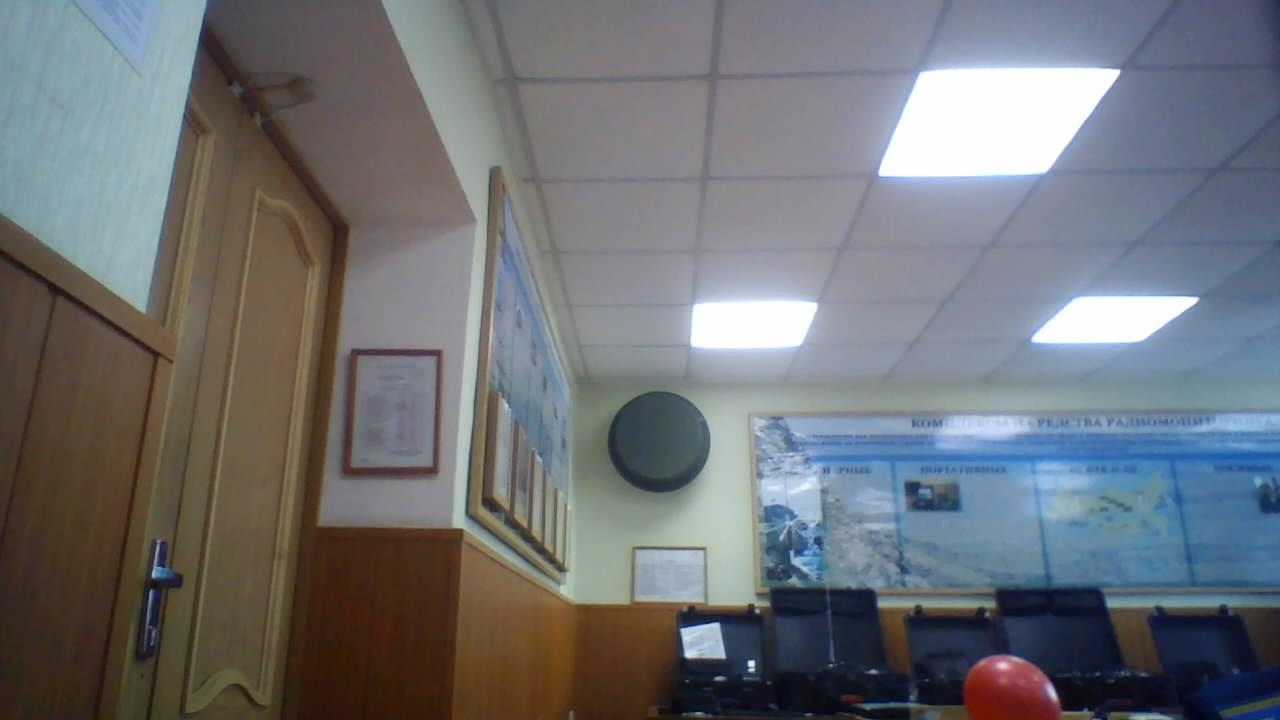red: (959, 651, 1061, 720)
